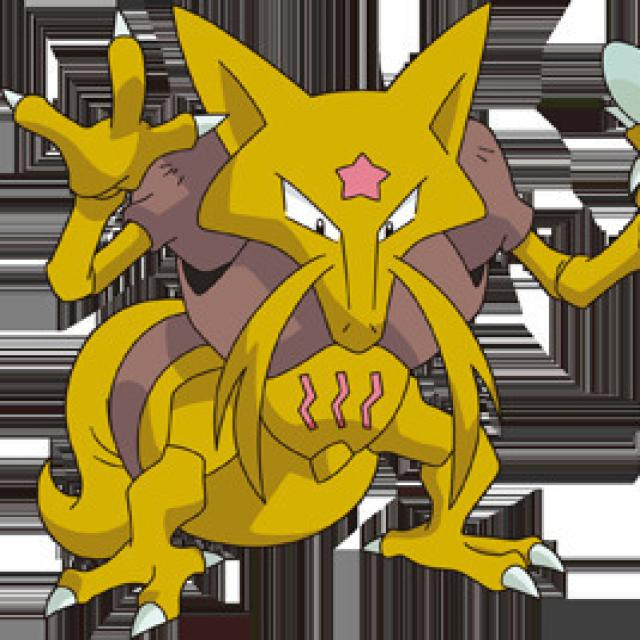Kadabra: (5, 4, 575, 600)
